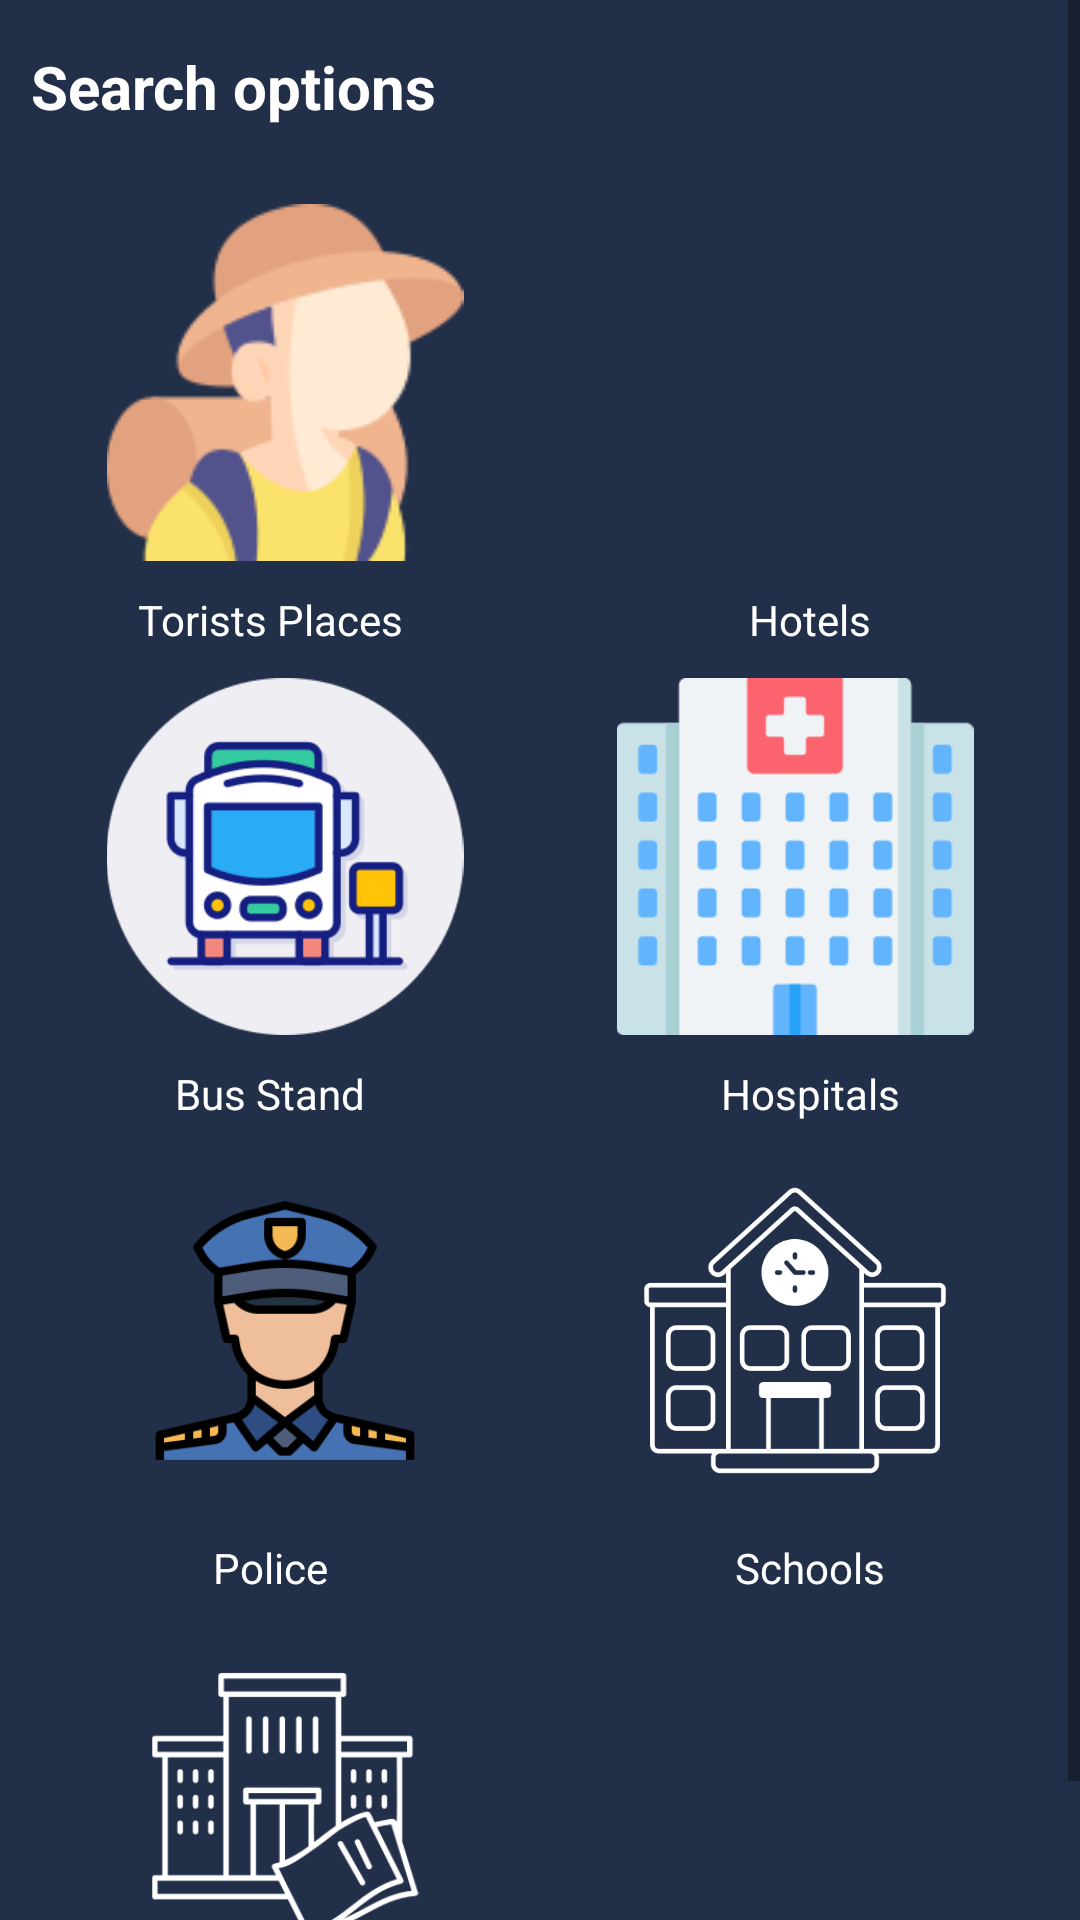

Named icons in this screenshot (1080x1920) and their centers, (x=x, y=y):
transport: (x=285, y=856)
traveler: (x=285, y=382)
